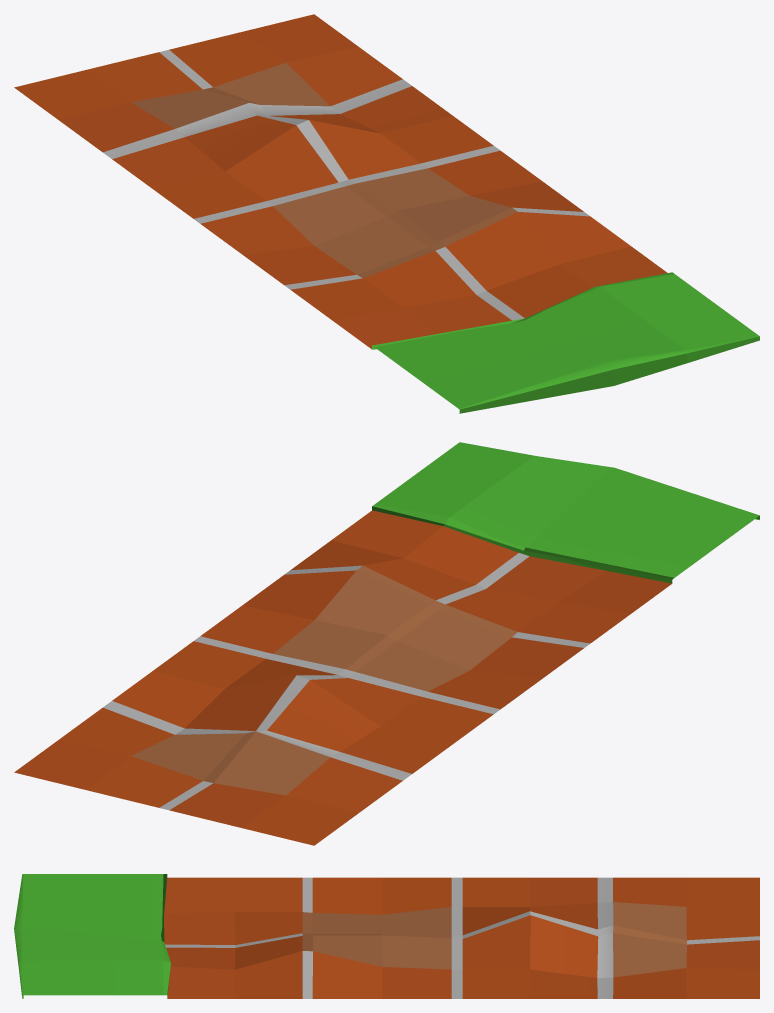
File: ground_bg_broken_01.fbx
3 views of the same model, one above another, from view 1: azimuth 30°, elevation 25°; view 2: azimuth 150°, elevation 25°; view 3: azimuth 270°, elevation 25° (orthographic). The views are drawn at different scales.
Visible parts, largest first — view 1: ground_bg_broken_01; view 2: ground_bg_broken_01; view 3: ground_bg_broken_01.
Boxes of the visible parts, <box> form: ground_bg_broken_01: <box>14,14,759,413</box>; ground_bg_broken_01: <box>14,442,759,845</box>; ground_bg_broken_01: <box>14,874,759,998</box>.
Bounding box in the file's own units: 595 × 78.8 × 1548.
